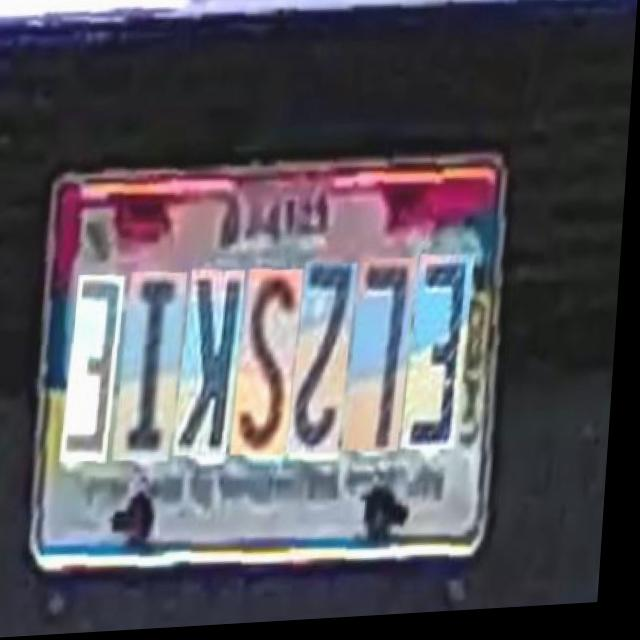2: (295, 275, 361, 470)
e: (410, 265, 478, 463), (69, 294, 128, 483)
i: (121, 288, 190, 481)
k: (181, 286, 249, 475)
l: (350, 269, 422, 467)
s: (238, 283, 308, 475)
